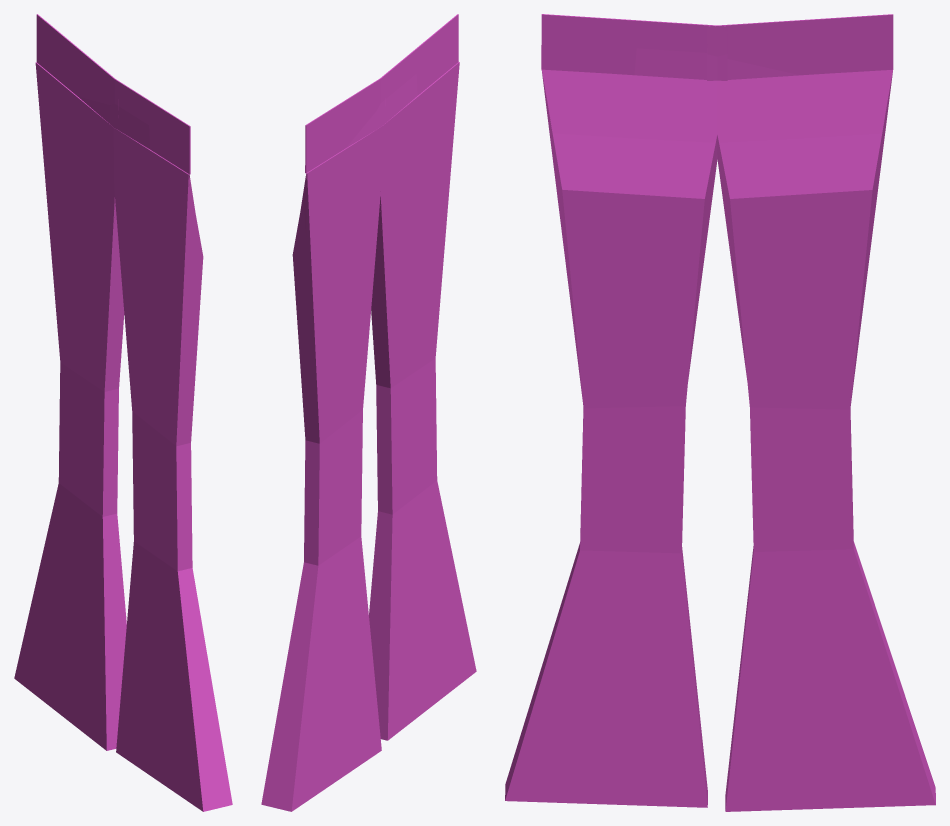
Rendered from Jean_Purple.fbx.
3 views of the same model, side by side, from view 1: azimuth 30°, elevation 25°; view 2: azimuth 150°, elevation 25°; view 3: azimuth 270°, elevation 25° (orthographic). The views are drawn at different scales.
Parts seen in each view (by area): view 1: Plane.009; view 2: Plane.009; view 3: Plane.009.
Part boxes in pixels (box(x1,y1,x2,y2)): Plane.009: box(14, 14, 232, 811); Plane.009: box(261, 14, 476, 811); Plane.009: box(505, 14, 935, 811).
Size of the model in its own units: 15.1 by 309 by 154.
